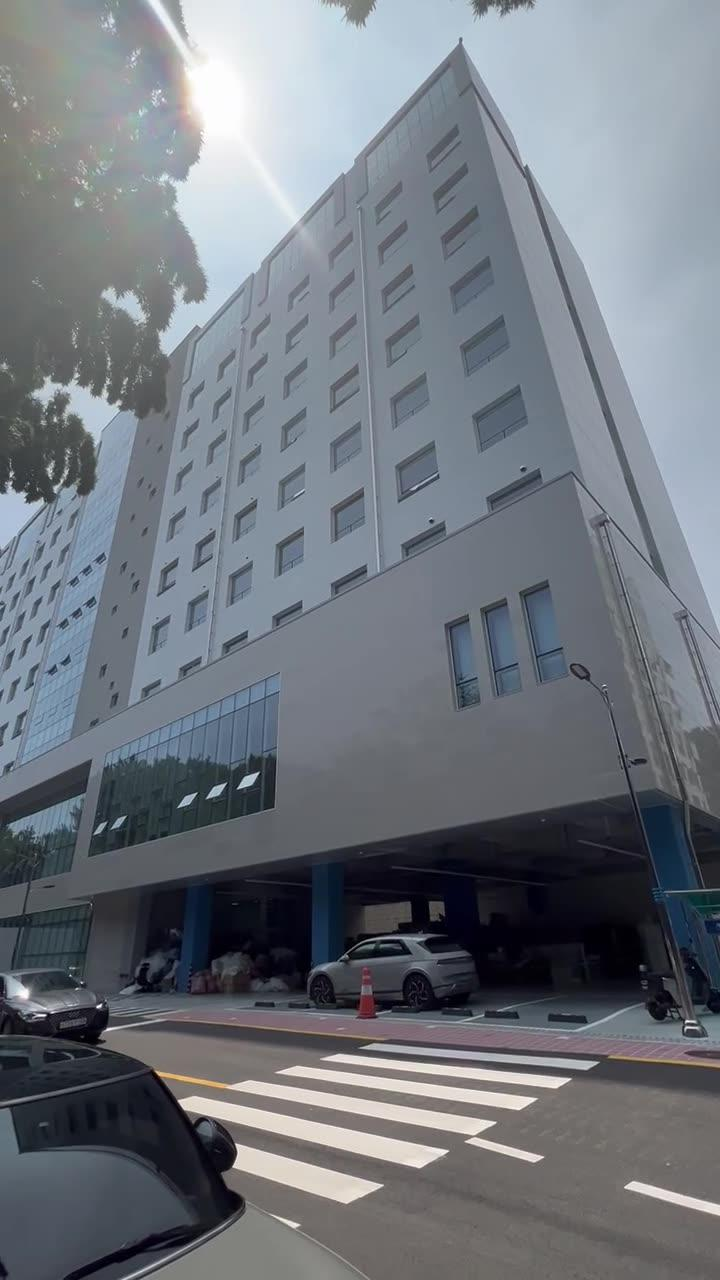building: (170, 166, 670, 862)
